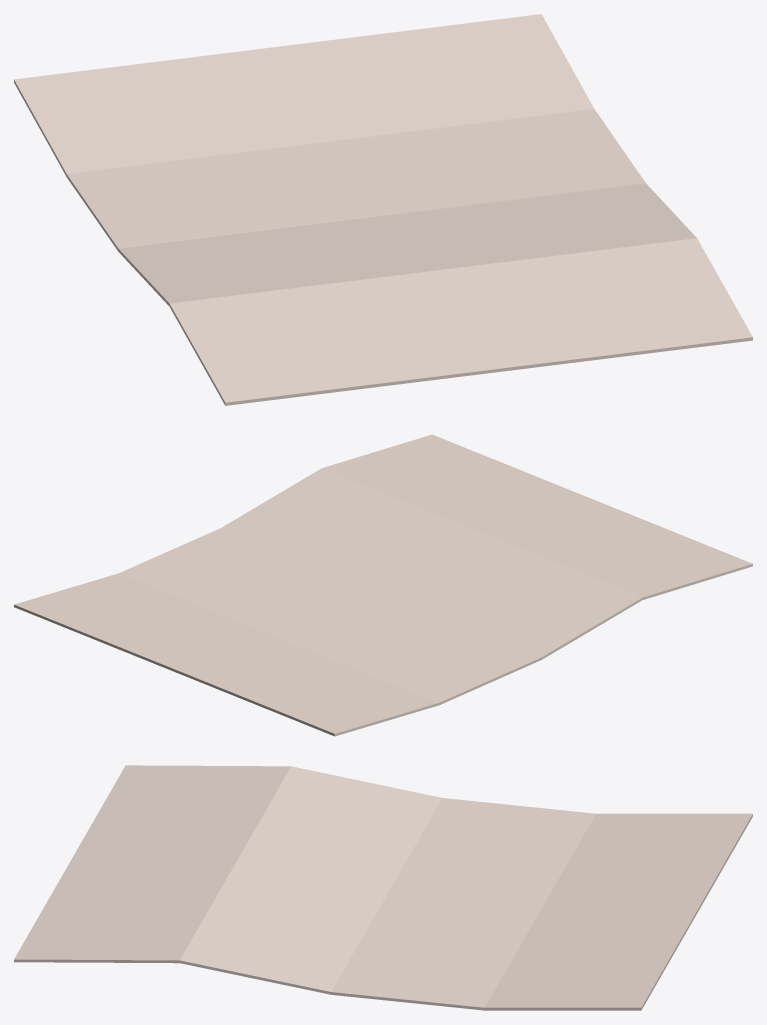
File: Paper_7.fbx
The picture shows the model from 3 angles, top to bottom: view 1: azimuth 30°, elevation 25°; view 2: azimuth 150°, elevation 25°; view 3: azimuth 270°, elevation 25°; orthographic projection. The views are drawn at different scales.
Visible parts, largest first — view 1: Paper_7; view 2: Paper_7; view 3: Paper_7.
Part boxes in pixels (box(x1,y1,x2,y2)): Paper_7: box(14, 14, 752, 405); Paper_7: box(14, 434, 752, 736); Paper_7: box(14, 765, 752, 1010).
Bounding box in the file's own units: 47.54 × 57.44 × 1.62.
